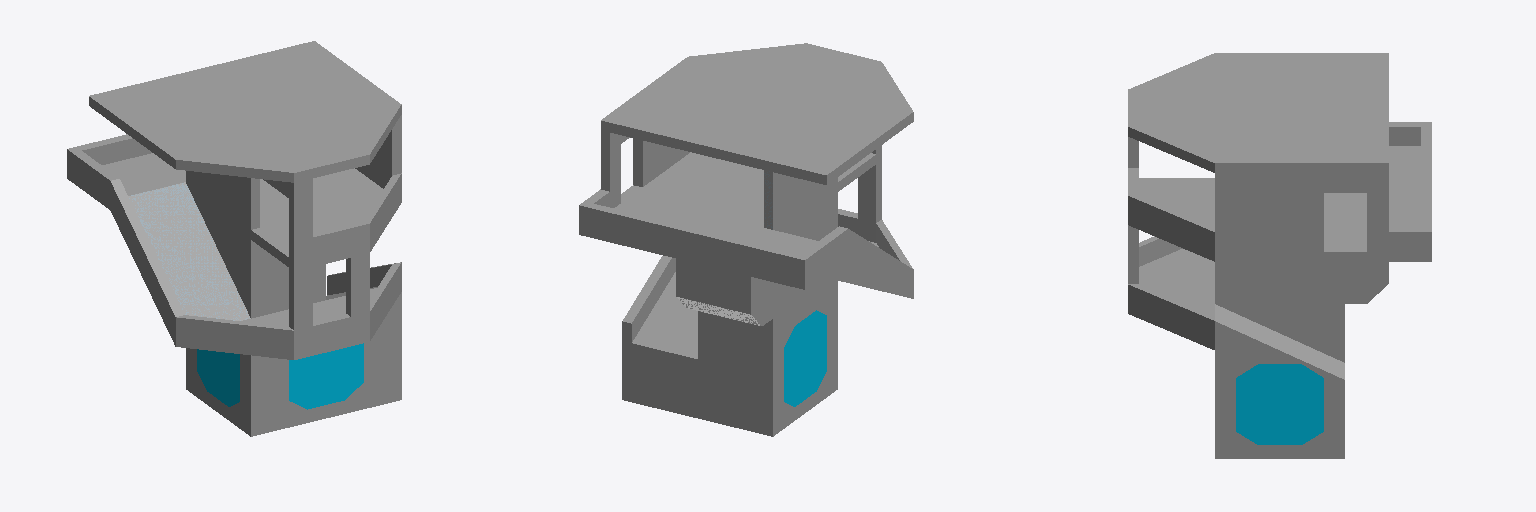
The model's file is tower-tall.obj.
3 renders of one model, left to right at view 1: azimuth 30°, elevation 25°; view 2: azimuth 150°, elevation 25°; view 3: azimuth 270°, elevation 25°, orthographic.
Parts seen in each view (by area): view 1: Mesh1 Tower__Tall1 Model; view 2: Mesh1 Tower__Tall1 Model; view 3: Mesh1 Tower__Tall1 Model.
Part boxes in pixels (x1,y1,x2,y2): Mesh1 Tower__Tall1 Model: (67,41,401,436); Mesh1 Tower__Tall1 Model: (579,43,913,436); Mesh1 Tower__Tall1 Model: (1128,53,1431,458).
Size of the model in its own units: 6 by 7.5 by 7.